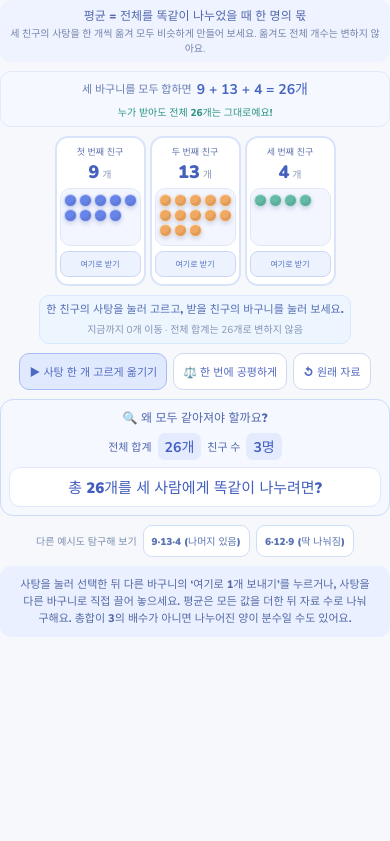
Test: 평균은 고르게 나누기 › 한 개씩 고르게 옮기기를 네 번 하면 9,9,8이 되고 2/3를 발견한다
The image size is (390, 841).
Click the button "▶ 사탕 한 개 고르게 옮기기".
click(93, 372)  # box [20, 353, 167, 390]
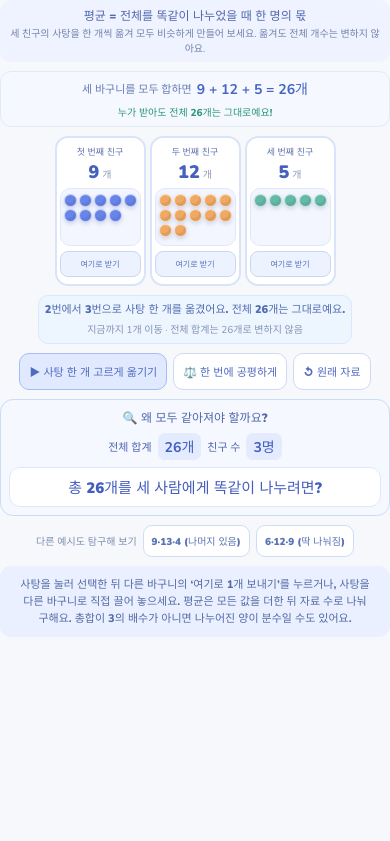
Click the button "▶ 사탕 한 개 고르게 옮기기".
click(93, 372)  # box [20, 353, 167, 390]
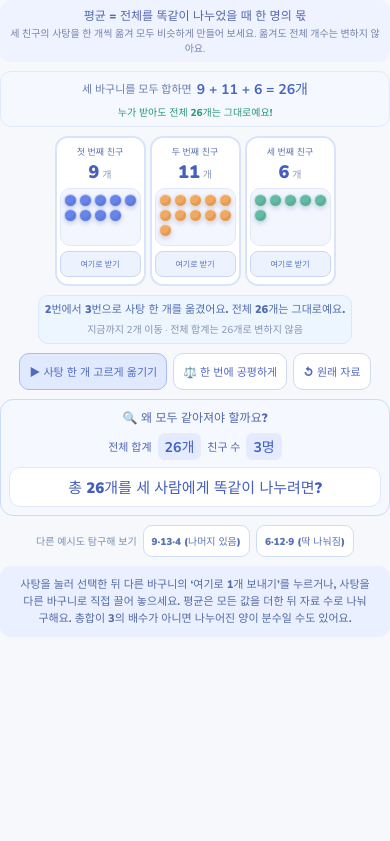
Click the button "▶ 사탕 한 개 고르게 옮기기".
click(93, 372)  # box [20, 353, 167, 390]
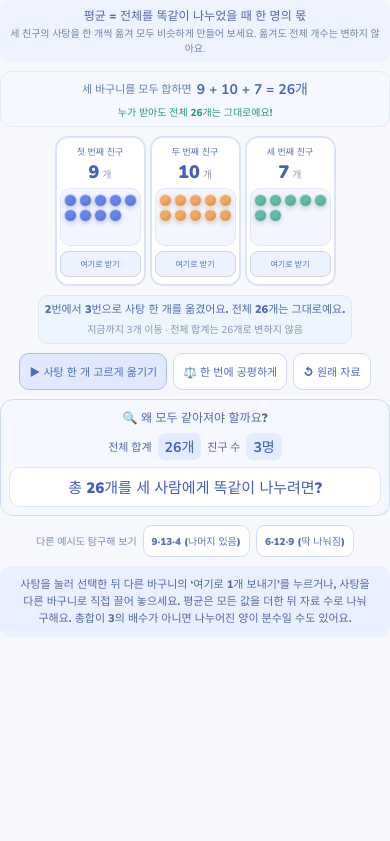
Click the button "▶ 사탕 한 개 고르게 옮기기".
click(93, 372)  # box [20, 353, 167, 390]
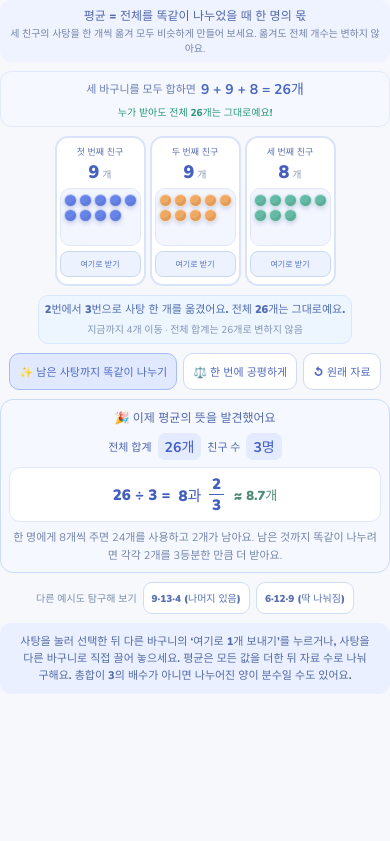
Expected: the text "9 + 9 + 8 = 26개" is shown, [201, 78, 304, 99]
Expected: the element named "3분의 2" is shown, [212, 474, 221, 515]
Click the button "✨ 남은 사탕까지 똑같이 나누기".
click(93, 372)  # box [10, 353, 177, 390]
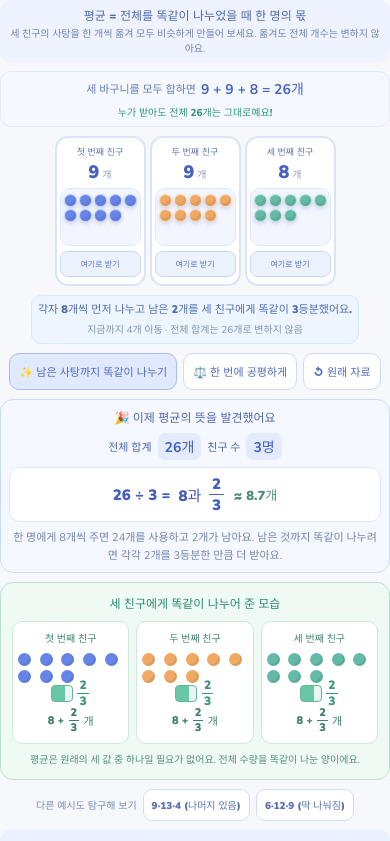
Expected: the element with test id "average-equal-shares" is shown, [0, 582, 389, 780]
Expected: the text "평균은 원래의 세 값 중 하나일 필요가 없어요. 전체 수량을 똑같이 나눈 양이에요." is shown, [12, 753, 378, 768]
